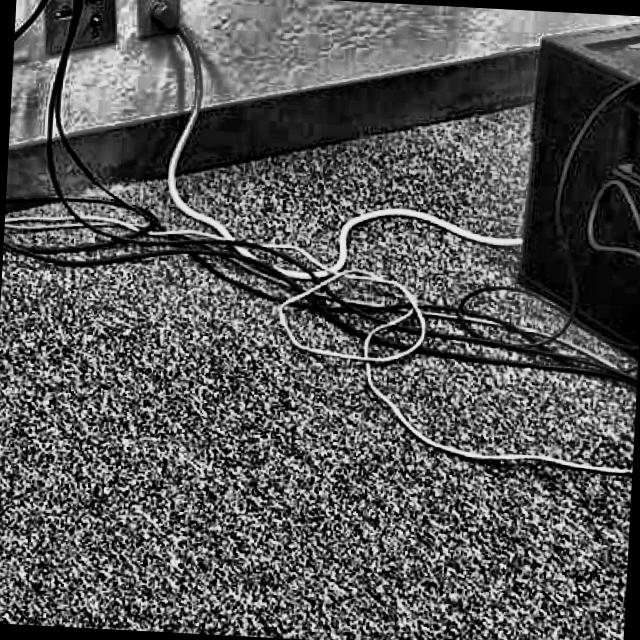Cable: (0, 185, 640, 467), (138, 3, 532, 293)
